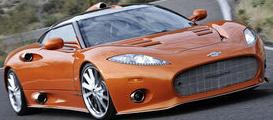front_view: (105, 29, 266, 108)
headlight: (103, 50, 177, 71)
side_glass: (25, 25, 90, 52)
